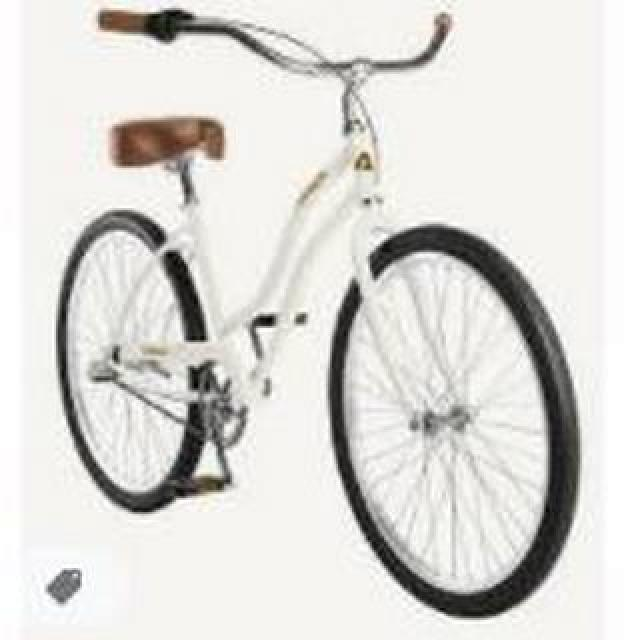Person: (43, 7, 583, 623)
